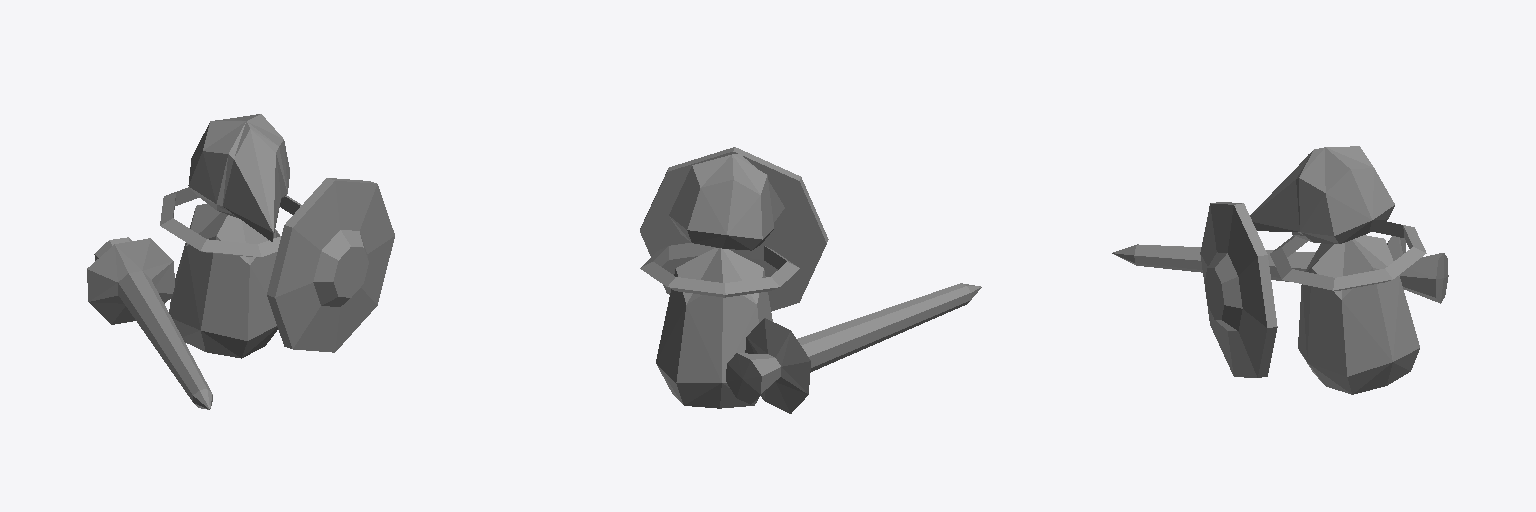
3 renders of one model, left to right at view 1: azimuth 30°, elevation 25°; view 2: azimuth 150°, elevation 25°; view 3: azimuth 270°, elevation 25°, orthographic.
Parts seen in each view (by area): view 1: meshMinion; view 2: meshMinion; view 3: meshMinion.
Part boxes in pixels (left/top/right/bottom): meshMinion: left=87, top=114, right=394, bottom=409; meshMinion: left=640, top=147, right=981, bottom=413; meshMinion: left=1112, top=146, right=1448, bottom=394.
Size of the model in its own units: 122 by 101 by 134.